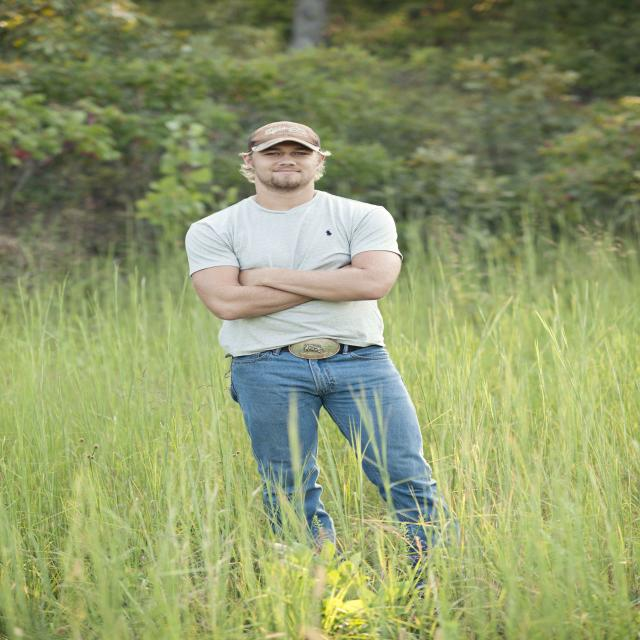adult: (180, 100, 444, 614)
